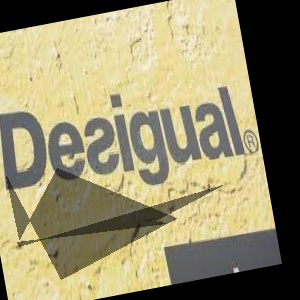desigual: (221, 22, 251, 92)
